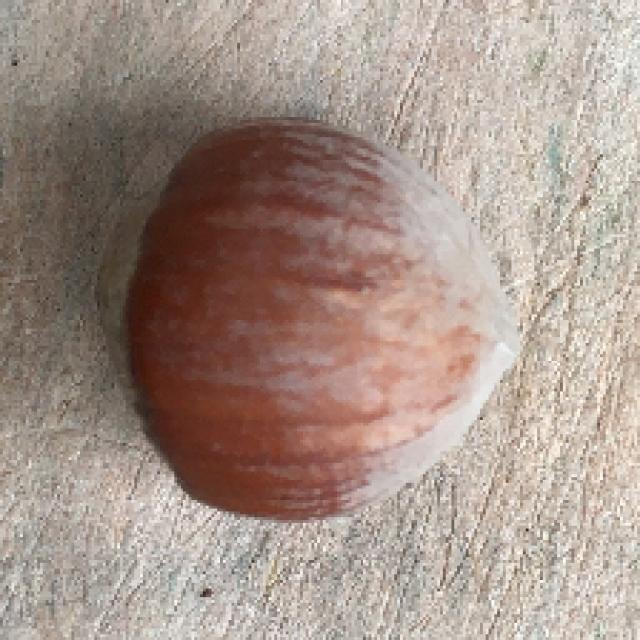qualityHazelnut: (83, 115, 524, 529)
